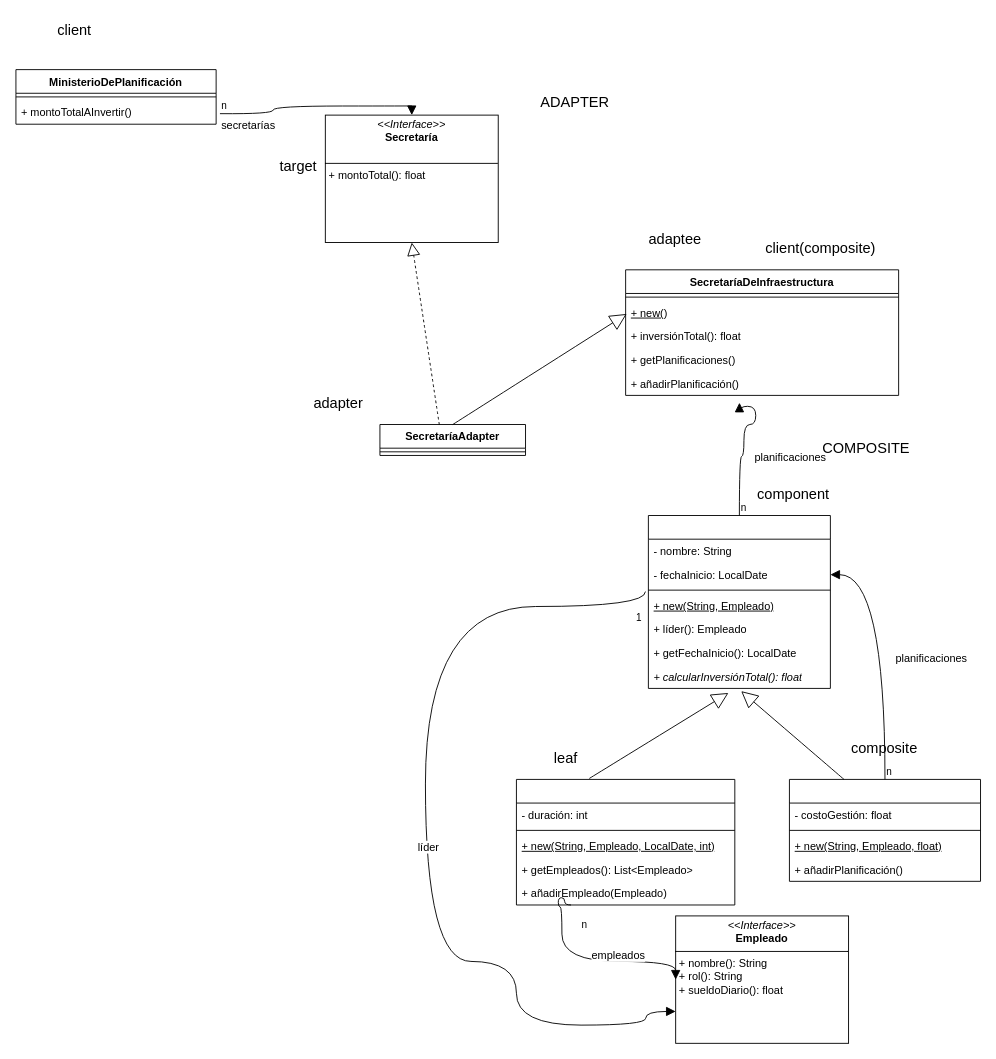
Image size: 996x1059. Some labels were removed from this diagram. Here are the shapes that lost their labels. From the top down, the box of each, then its label:
(647, 515, 830, 688): Planificación
(516, 779, 735, 905): Proyecto
(789, 779, 981, 881): Programa
